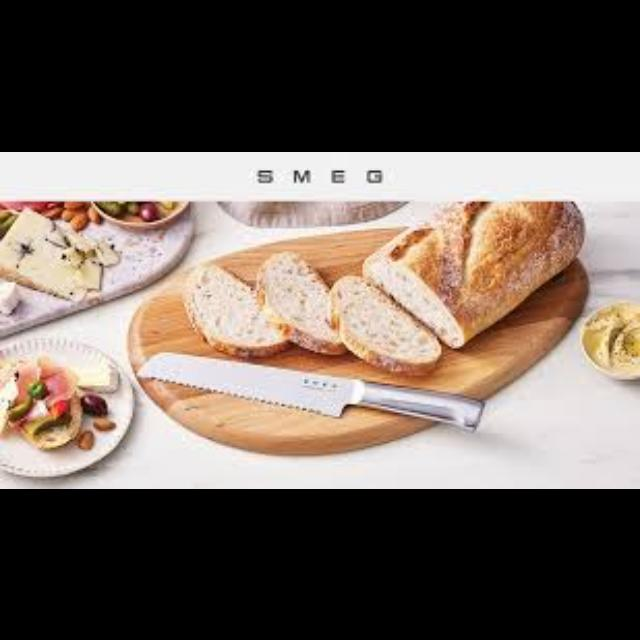Knife: (138, 350, 484, 430)
